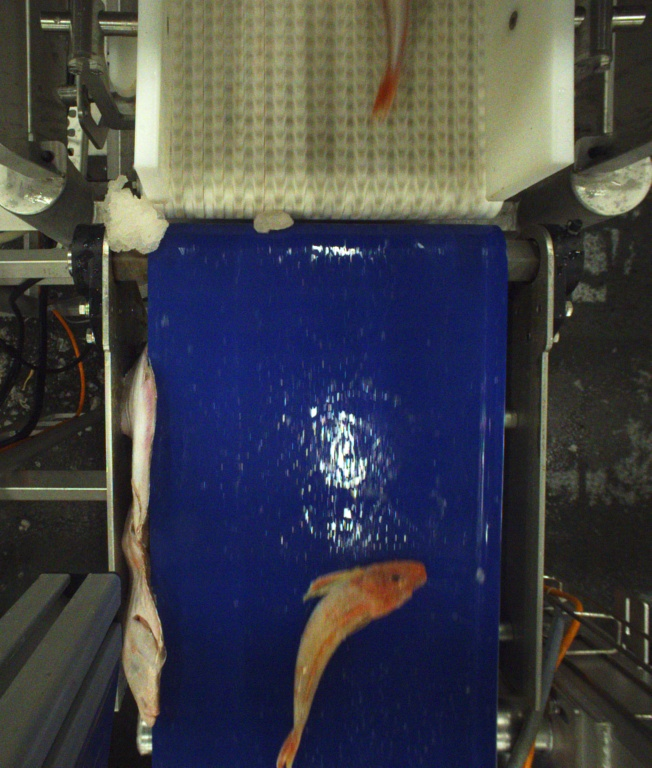GUU: (272, 561, 428, 768)
